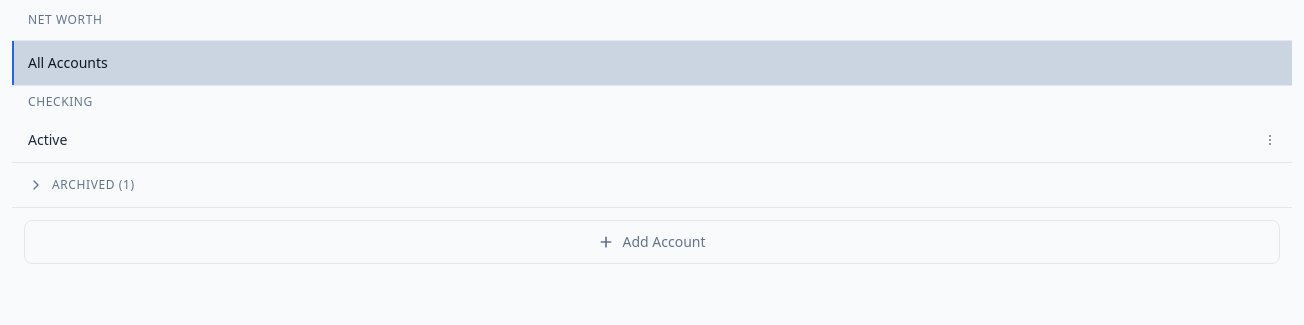
Test: AccountSidebar › archived accounts › sets aria-expanded on archived toggle
Click the button "Archived (1)".
click(88, 184)  # box [12, 163, 1292, 207]
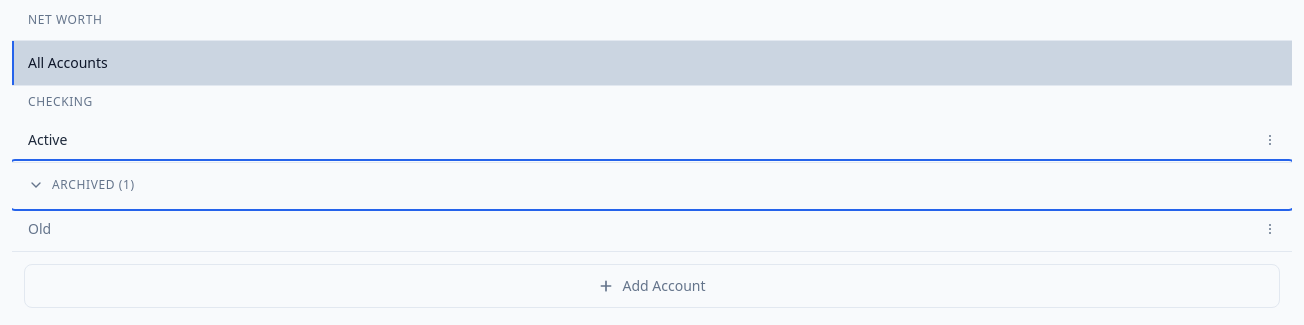
Expected: the button "Archived (1)" is expanded, [12, 163, 1292, 207]
